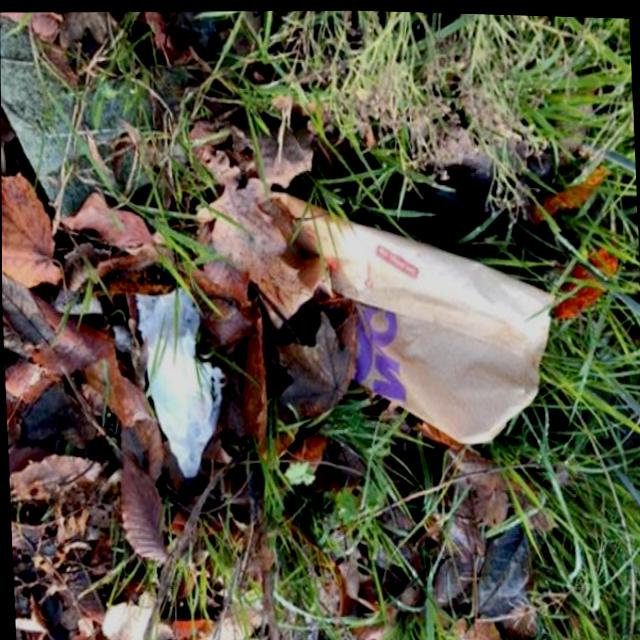Paper: (260, 177, 563, 451), (132, 279, 230, 479)
